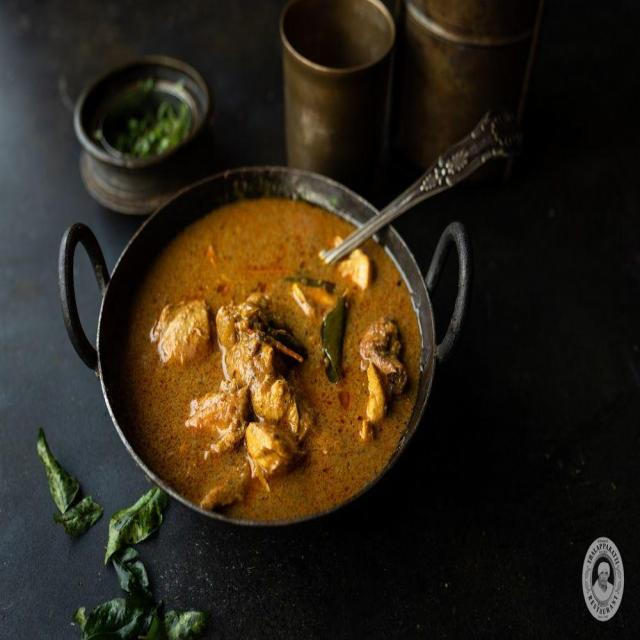chicken: (108, 187, 432, 499)
